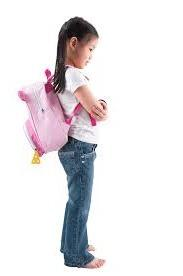Human: (28, 3, 112, 267)
